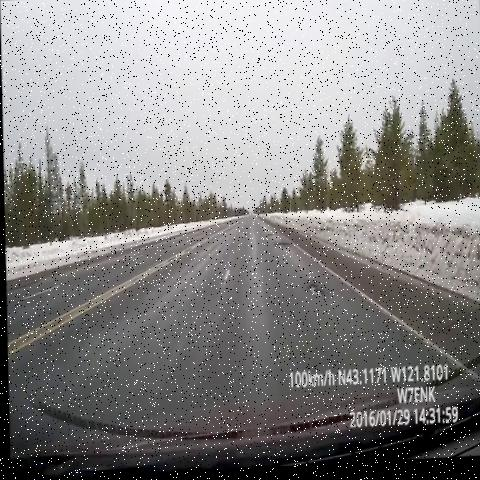pothole: (300, 274, 327, 311), (270, 234, 290, 258), (262, 232, 276, 244)
